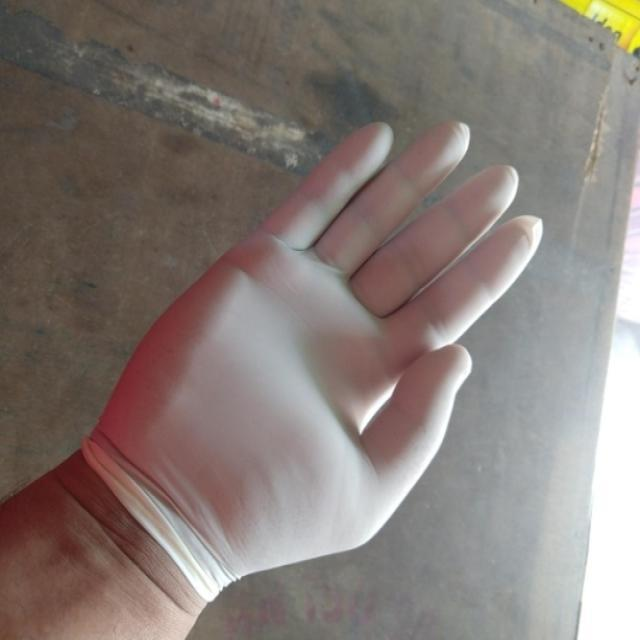glove_hand: (77, 113, 552, 612)
